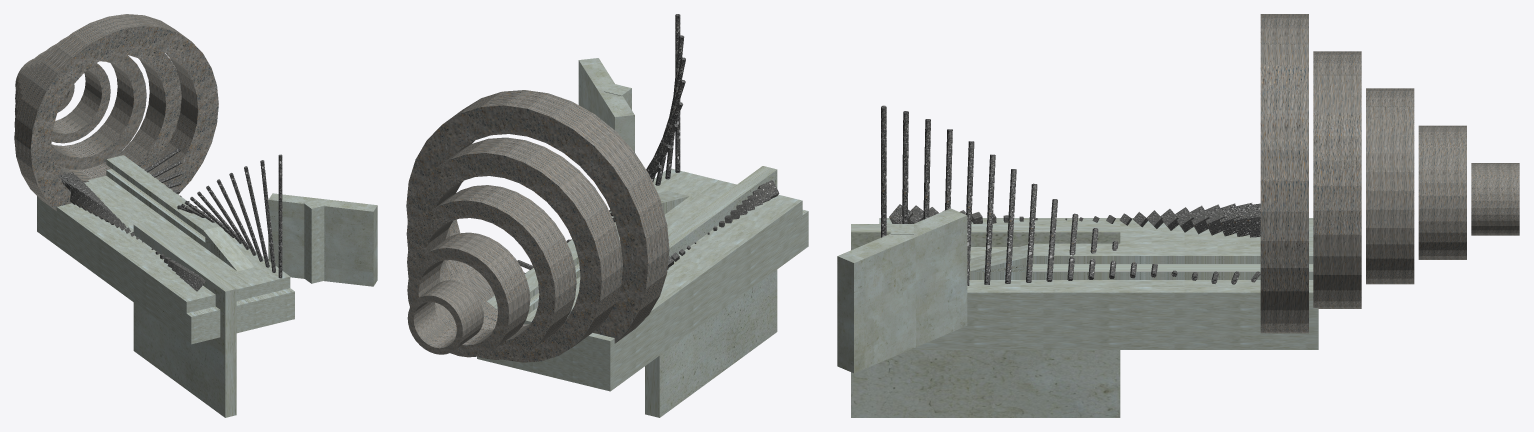
File: archiV2.glb
3 renders of one model, left to right at view 1: azimuth 30°, elevation 25°; view 2: azimuth 150°, elevation 25°; view 3: azimuth 270°, elevation 25°, orthographic. The views are drawn at different scales.
Parts seen in each view (by area): view 1: Cylinder.002, Cube.004, Cube.009, Cube.008, Cube.007, Cube.003; view 2: Cylinder.002, Cube.004, Cube.009, Cube.008, Cube.007, Cube.003; view 3: Cylinder.002, Cube.004, Cube.009, Cube.008, Cube.007, Cube.003.
Part boxes in pixels (left/top/right/bottom): Cylinder.002: left=14, top=14, right=218, bottom=210; Cube.004: left=37, top=155, right=294, bottom=344; Cube.009: left=133, top=222, right=236, bottom=417; Cube.008: left=268, top=193, right=377, bottom=286; Cube.007: left=144, top=148, right=282, bottom=278; Cube.003: left=58, top=172, right=205, bottom=291; Cylinder.002: left=406, top=90, right=669, bottom=362; Cube.004: left=477, top=168, right=808, bottom=391; Cube.009: left=645, top=166, right=777, bottom=417; Cube.008: left=578, top=58, right=634, bottom=152; Cube.007: left=517, top=14, right=685, bottom=273; Cube.003: left=667, top=180, right=779, bottom=269; Cylinder.002: left=1260, top=14, right=1519, bottom=333; Cube.004: left=879, top=218, right=1318, bottom=349; Cube.009: left=851, top=224, right=1120, bottom=417; Cube.008: left=837, top=208, right=967, bottom=373; Cube.007: left=881, top=105, right=1260, bottom=285; Cube.003: left=889, top=203, right=1260, bottom=237.
Size of the model in its own units: 16.41 by 20.88 by 31.57.
3 materials, 3 textured.
